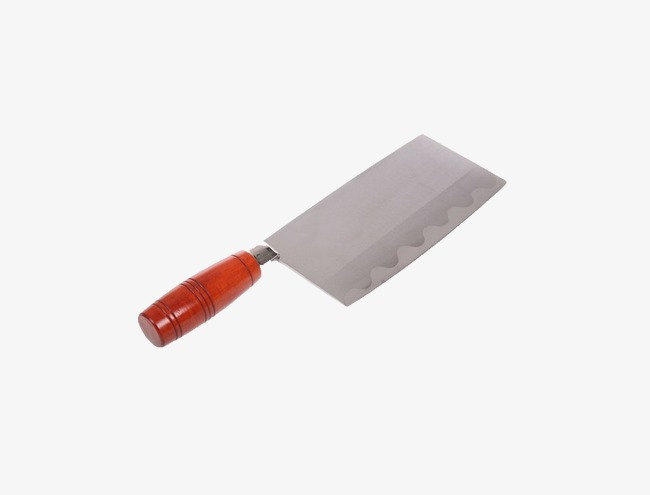knief: (112, 110, 543, 325)
